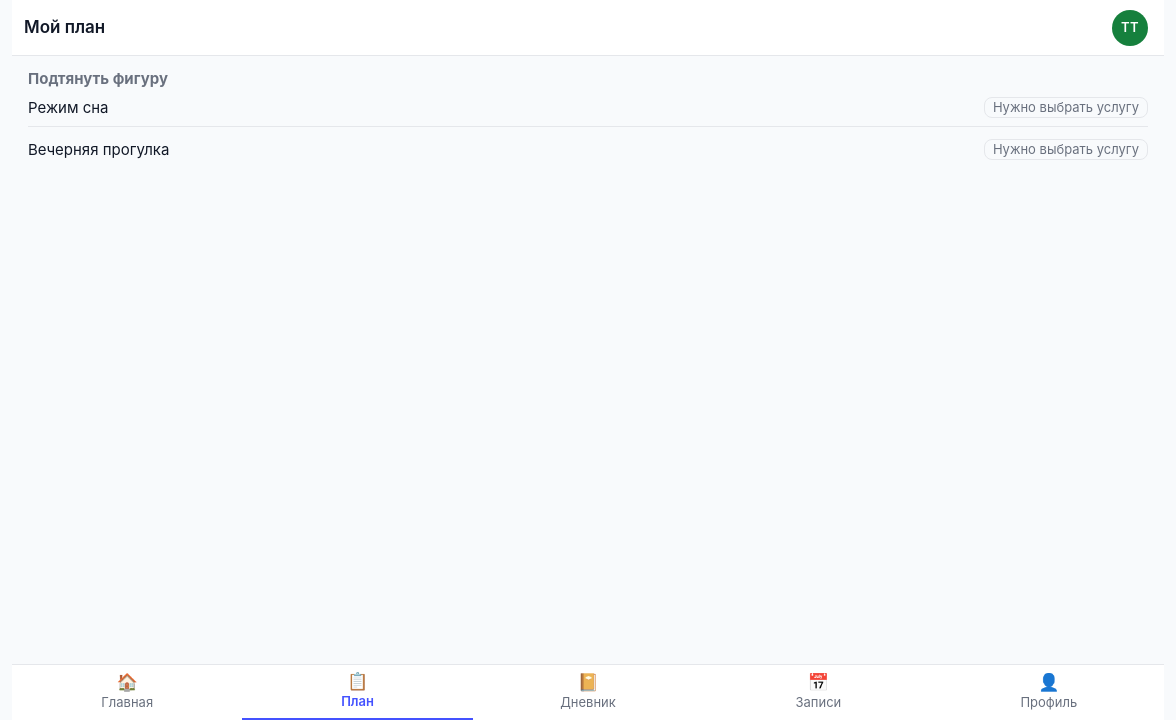
«Мой план»: от шага к услуге, времени и записи › выбор услуги шлёт номер нажатого варианта и показывает свободное время
This screenshot has width=1176, height=720.
Click the button "Нужно выбрать услугу" in the row of "Вечерняя прогулка" at x=1066, y=150, box [984,139,1148,160]
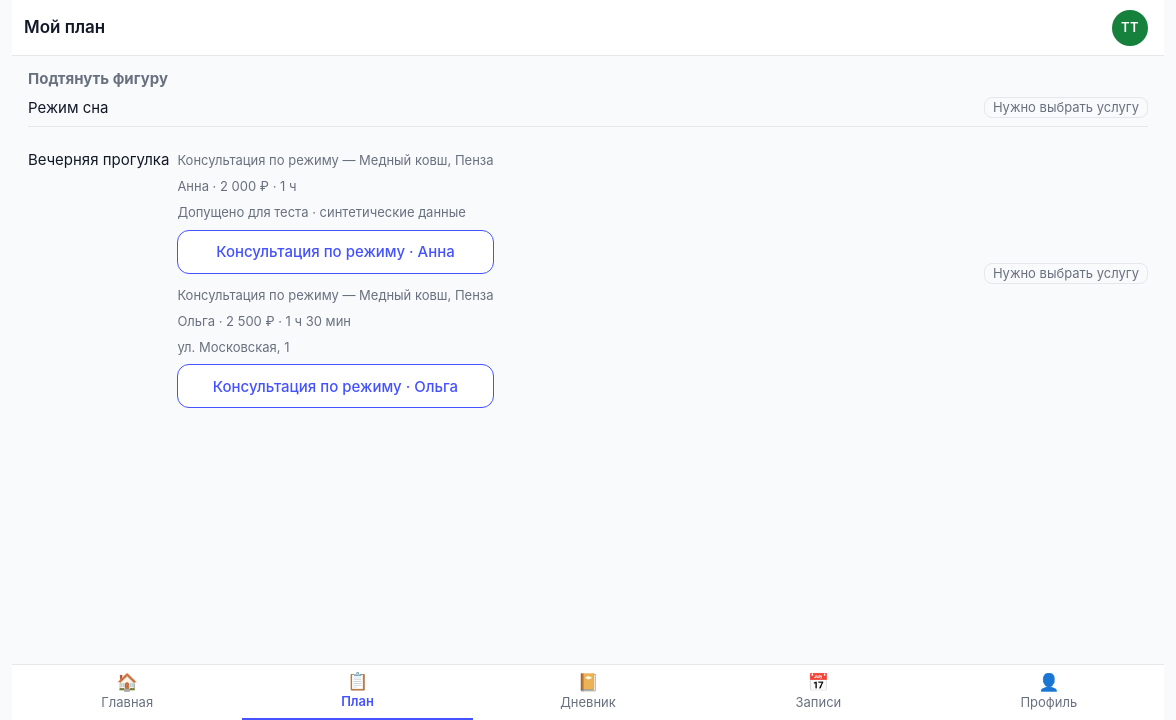
Click the button "Консультация по режиму · Ольга" at x=336, y=386, box [177,364,494,408]
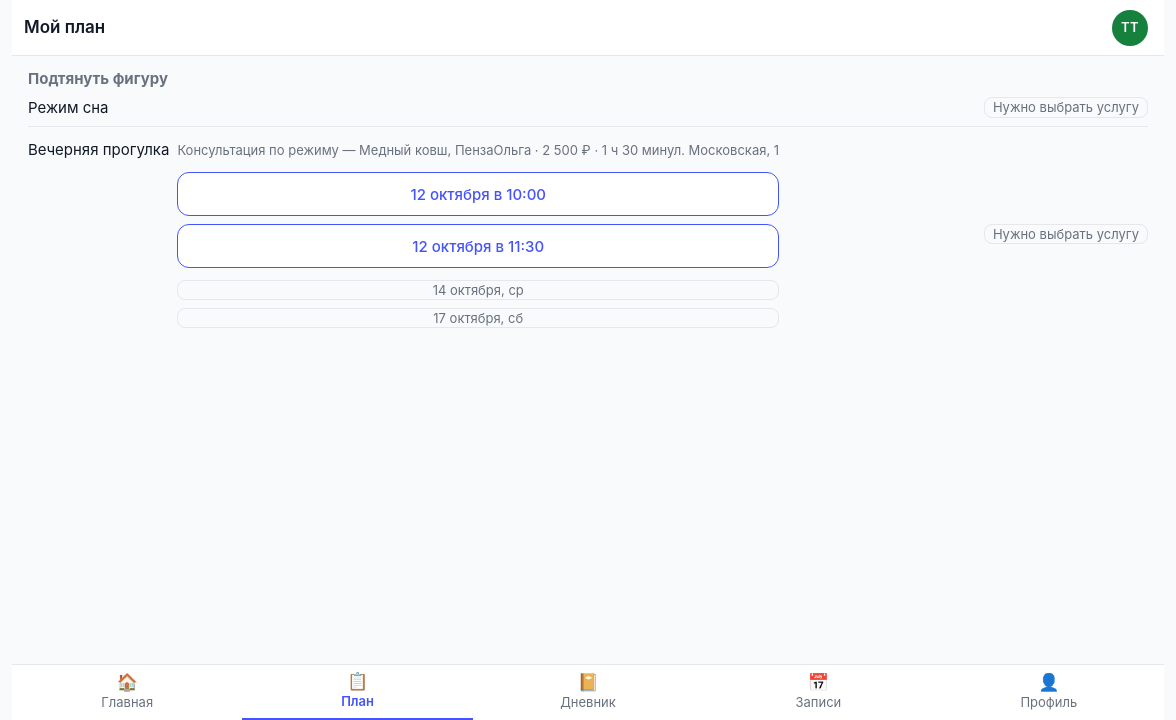
Result: the text "Ольга · 2 500 ₽ · 1 ч 30 мин" is shown at [494,142,667,158]
Result: the buttons read "12 октября в 10:00", "12 октября в 11:30", "14 октября, ср", "17 октября, сб", in this order at [177,172,779,216]; [177,224,779,268]; [177,280,779,300]; [177,308,779,328]
